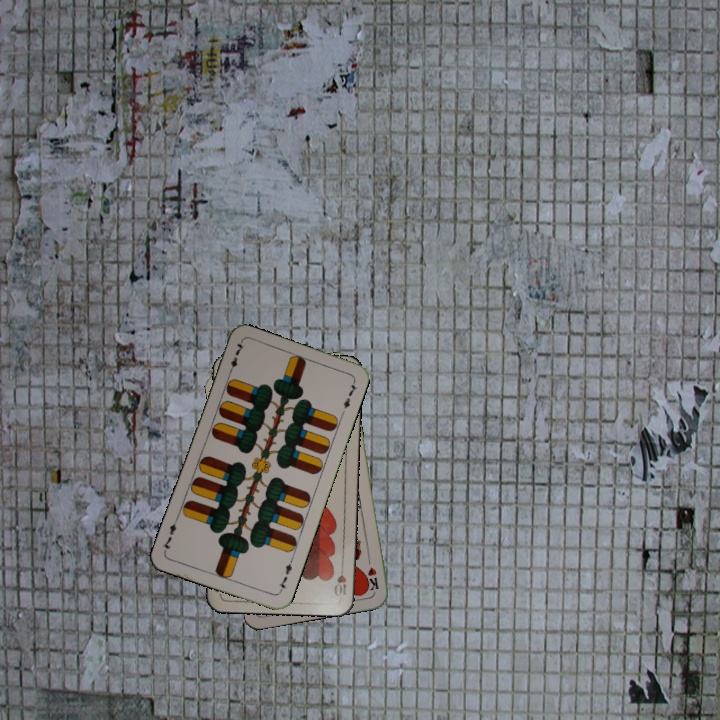E7: (224, 338, 247, 377), (275, 556, 295, 595)
H10: (330, 559, 349, 598)
HK: (363, 553, 381, 593)
